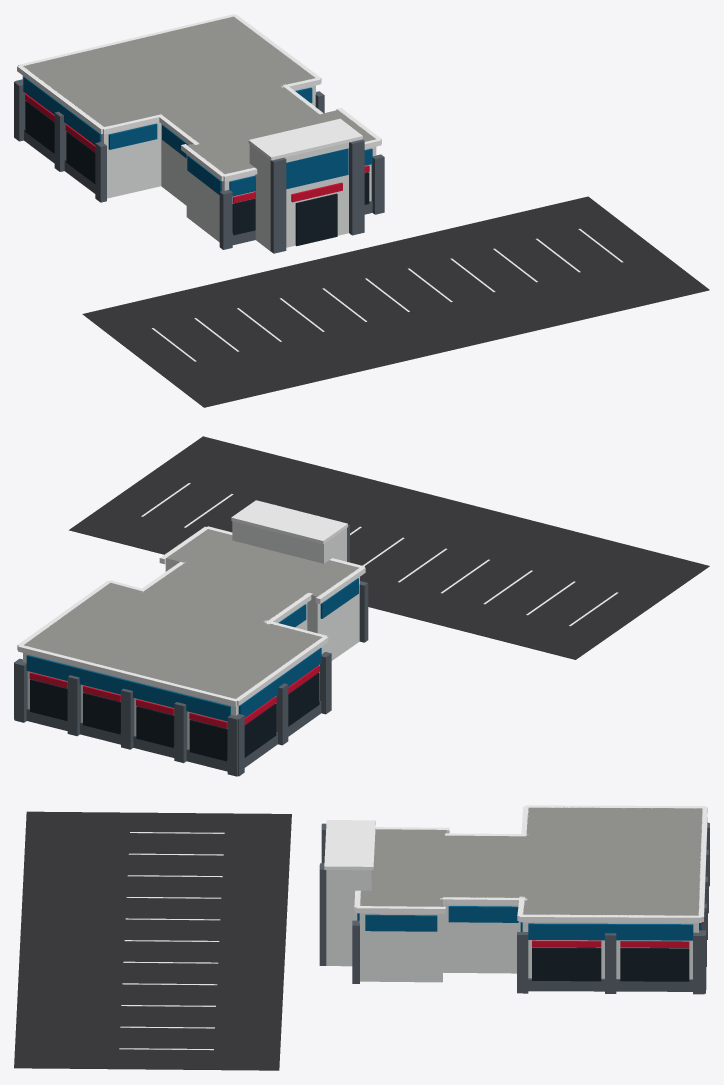
The model's file is dom_palmbeach.glb.
3 views of the same model, one above another, from view 1: azimuth 30°, elevation 25°; view 2: azimuth 150°, elevation 25°; view 3: azimuth 270°, elevation 25° (orthographic). The views are drawn at different scales.
Parts seen in each view (by area): view 1: dom_palmbeach_lod0; view 2: dom_palmbeach_lod0; view 3: dom_palmbeach_lod0.
Boxes of the visible parts, x1,y1,x2,y2 form: dom_palmbeach_lod0: (14, 14, 709, 407); dom_palmbeach_lod0: (14, 436, 709, 776); dom_palmbeach_lod0: (14, 805, 709, 1070).
Size of what is drawn, in the model's own units: 32.28 by 5.8 by 36.71.
